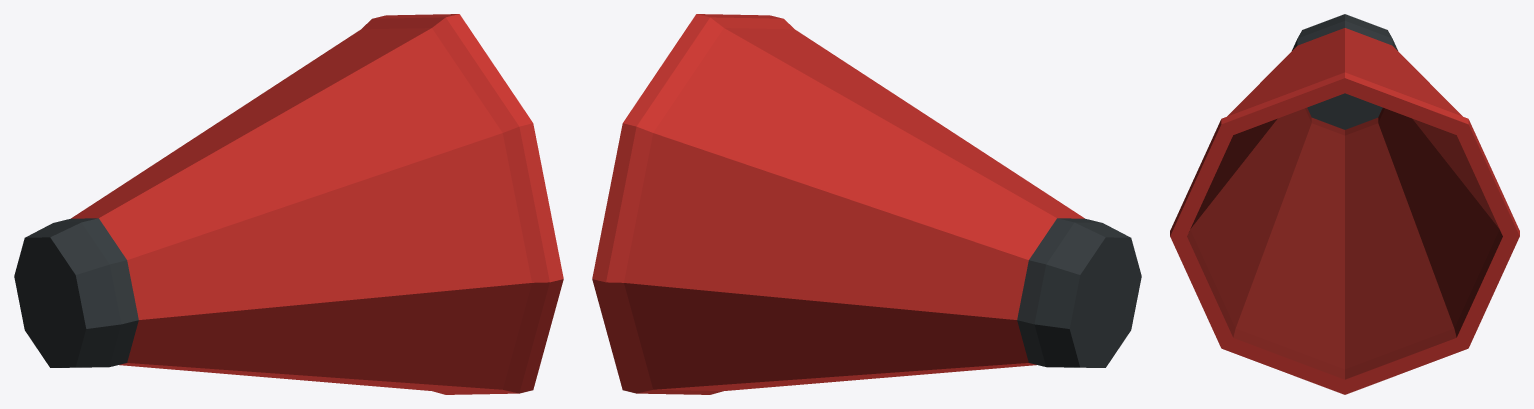
Rendered from SM_NoiseEmitter_Horn.fbx.
3 renders of one model, left to right at view 1: azimuth 30°, elevation 25°; view 2: azimuth 150°, elevation 25°; view 3: azimuth 270°, elevation 25°, orthographic. The views are drawn at different scales.
Parts seen in each view (by area): view 1: SM_NoiseEmitter_Horn; view 2: SM_NoiseEmitter_Horn; view 3: SM_NoiseEmitter_Horn.
Boxes of the visible parts, x1=… form: SM_NoiseEmitter_Horn: x1=14, y1=14, x2=563, y2=394; SM_NoiseEmitter_Horn: x1=592, y1=14, x2=1141, y2=394; SM_NoiseEmitter_Horn: x1=1170, y1=14, x2=1519, y2=394.
Size of the model in its own units: 118 by 104 by 104.
